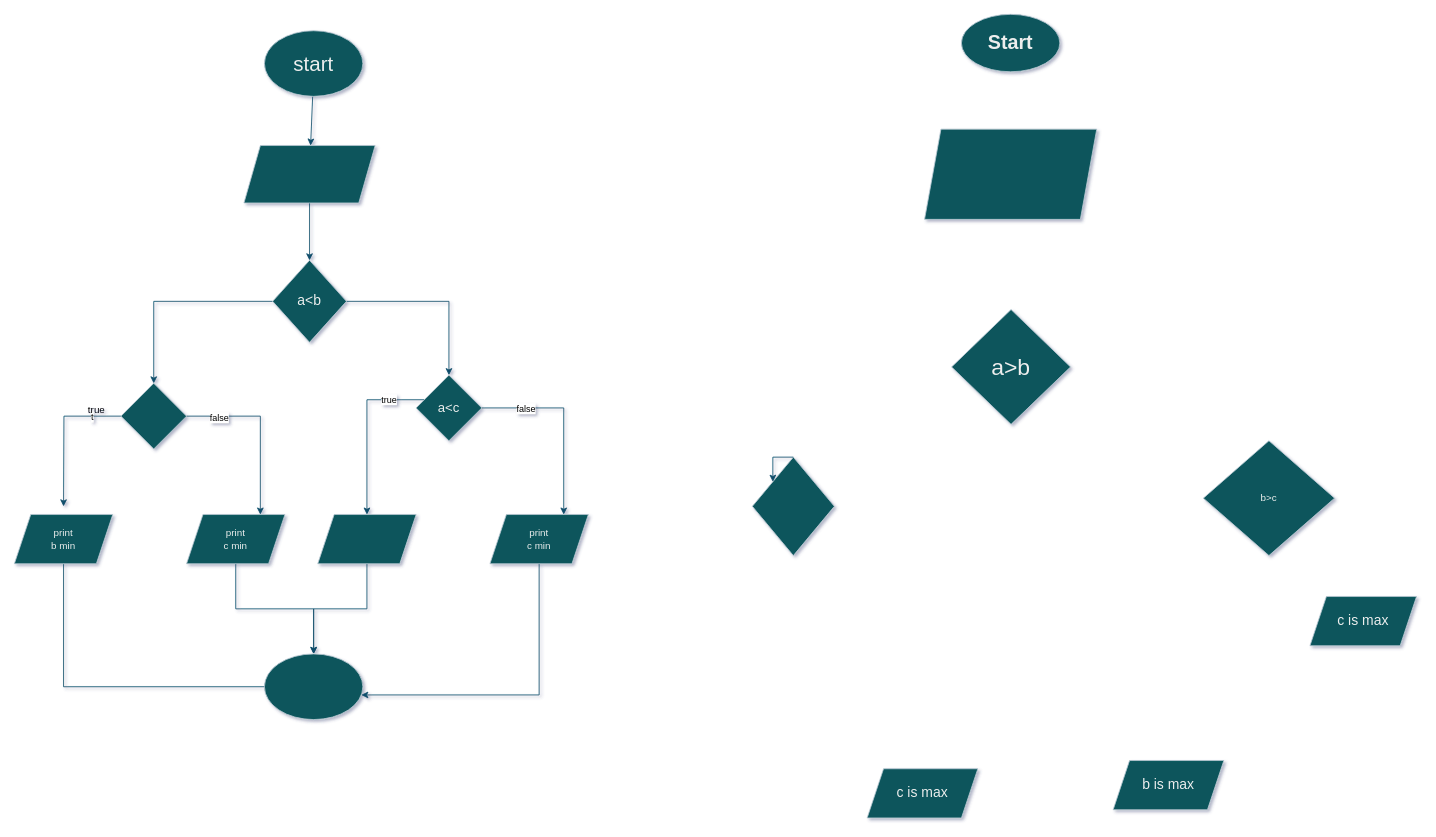
Some shapes in this 1436 by 837 pixel diagram are drawn without their labels. The shapes that lost their labels are listed below. From the top down, each one's centre as x and y in pixels, then its label:
At point 309,174: "Read a,b,c".
At point 1010,173: "Read a,b&c".
At point 153,416: "b<c".
At point 793,506: "a>c".
At point 366,539: "print a min".
At point 313,686: "end".
